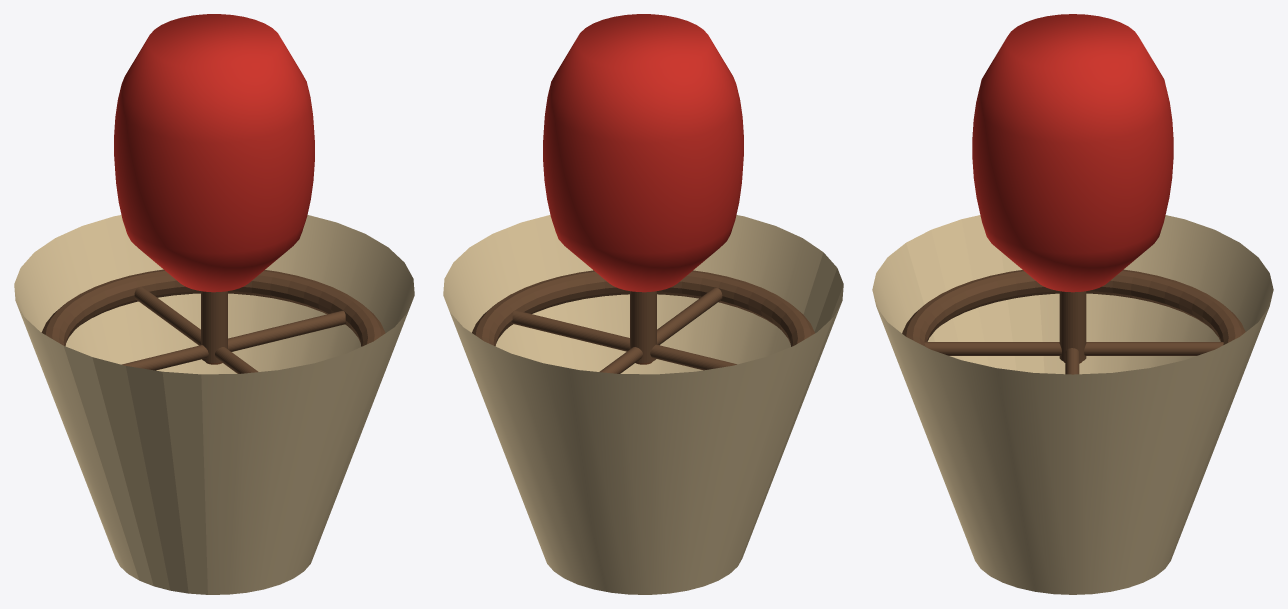
The model's file is Lamp.fbx.
3 renders of one model, left to right at view 1: azimuth 30°, elevation 25°; view 2: azimuth 150°, elevation 25°; view 3: azimuth 270°, elevation 25°, orthographic.
Visible parts, largest first — view 1: Lamp_shade, Body_lamp, Ring_holding_lampshade, support_stick_one, support_stick_two, Stick_for_Lightbulp; view 2: Lamp_shade, Body_lamp, Ring_holding_lampshade, support_stick_one, support_stick_two, Stick_for_Lightbulp; view 3: Lamp_shade, Body_lamp, Ring_holding_lampshade, support_stick_two, Stick_for_Lightbulp.
Part boxes in pixels (x1,y1,x2,y2): Lamp_shade: (14, 215, 414, 594); Body_lamp: (114, 14, 314, 292); Ring_holding_lampshade: (41, 269, 385, 346); support_stick_one: (122, 310, 345, 370); support_stick_two: (134, 287, 258, 373); Stick_for_Lightbulp: (201, 291, 227, 362); Lamp_shade: (443, 215, 843, 594); Body_lamp: (543, 14, 743, 292); Ring_holding_lampshade: (472, 270, 814, 346); support_stick_one: (512, 310, 736, 370); support_stick_two: (599, 288, 722, 373); Stick_for_Lightbulp: (630, 291, 656, 362); Lamp_shade: (872, 215, 1273, 594); Body_lamp: (972, 14, 1173, 292); Ring_holding_lampshade: (902, 269, 1245, 346); support_stick_two: (924, 342, 1223, 355); Stick_for_Lightbulp: (1059, 291, 1086, 362).
Bounding box in the file's own units: 143 × 201 × 143.
